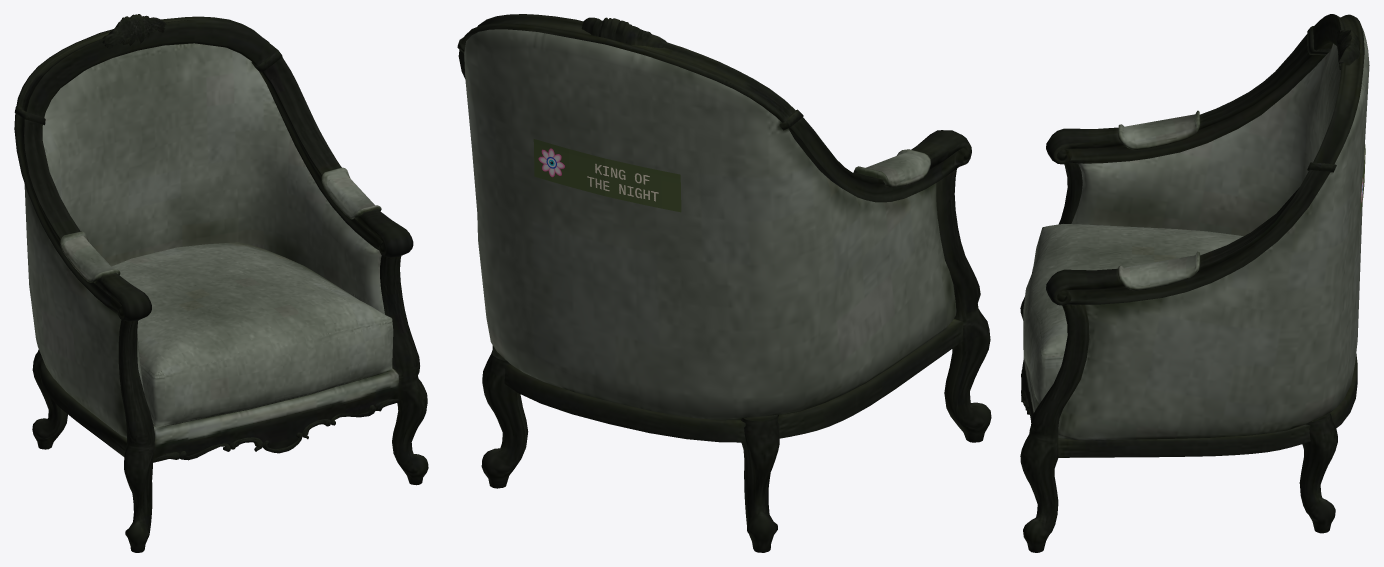
File: nyb_taxi_armchair.glb
3 renders of one model, left to right at view 1: azimuth 30°, elevation 25°; view 2: azimuth 150°, elevation 25°; view 3: azimuth 270°, elevation 25°, orthographic. The views are drawn at different scales.
Visible parts, largest first — view 1: ArmChair_01; view 2: ArmChair_01, stk_lbl_8bc89a5199.png; view 3: ArmChair_01.
Boxes of the visible parts, x1,y1,x2,y2 form: ArmChair_01: (14,14,428,552); ArmChair_01: (457,14,991,552); stk_lbl_8bc89a5199.png: (533,139,681,212); ArmChair_01: (1020,14,1369,552).
Size of the model in its own units: 0.8484 by 1.07 by 0.7658.
Materials: 2 (2 with a texture image).
